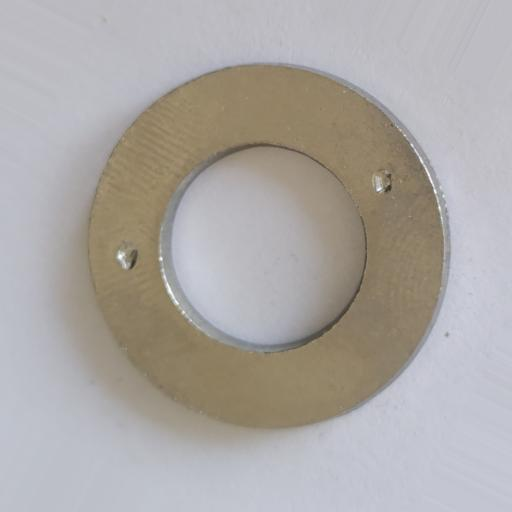circular_cavity: (115, 242, 139, 270), (372, 169, 392, 193)
